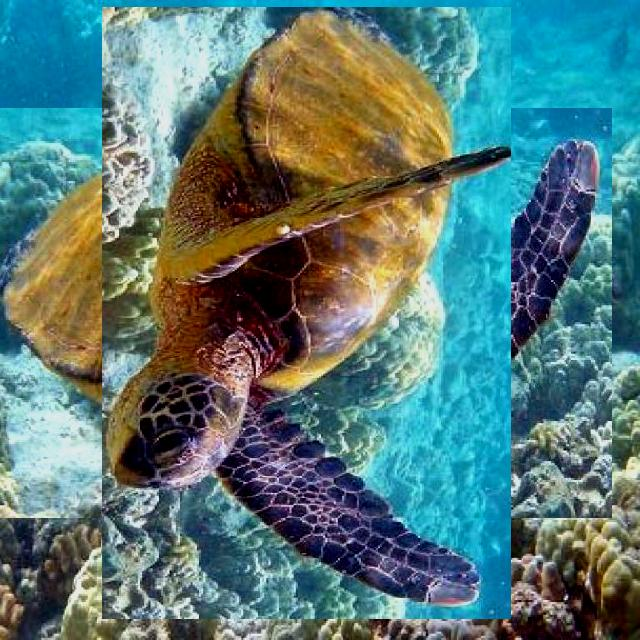Sea turtle: (51, 58, 562, 568)
